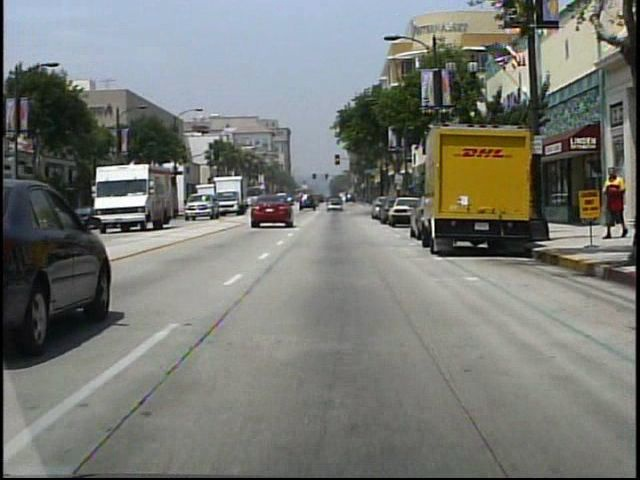person: (599, 165, 627, 240)
